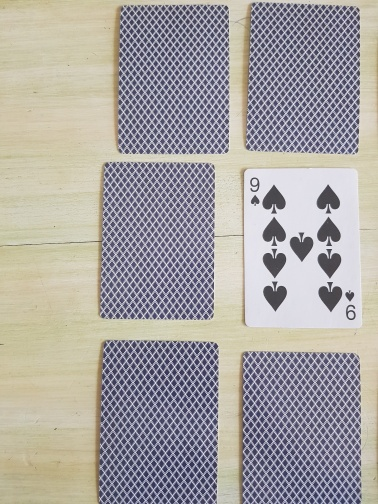nine: (242, 166, 364, 329)
